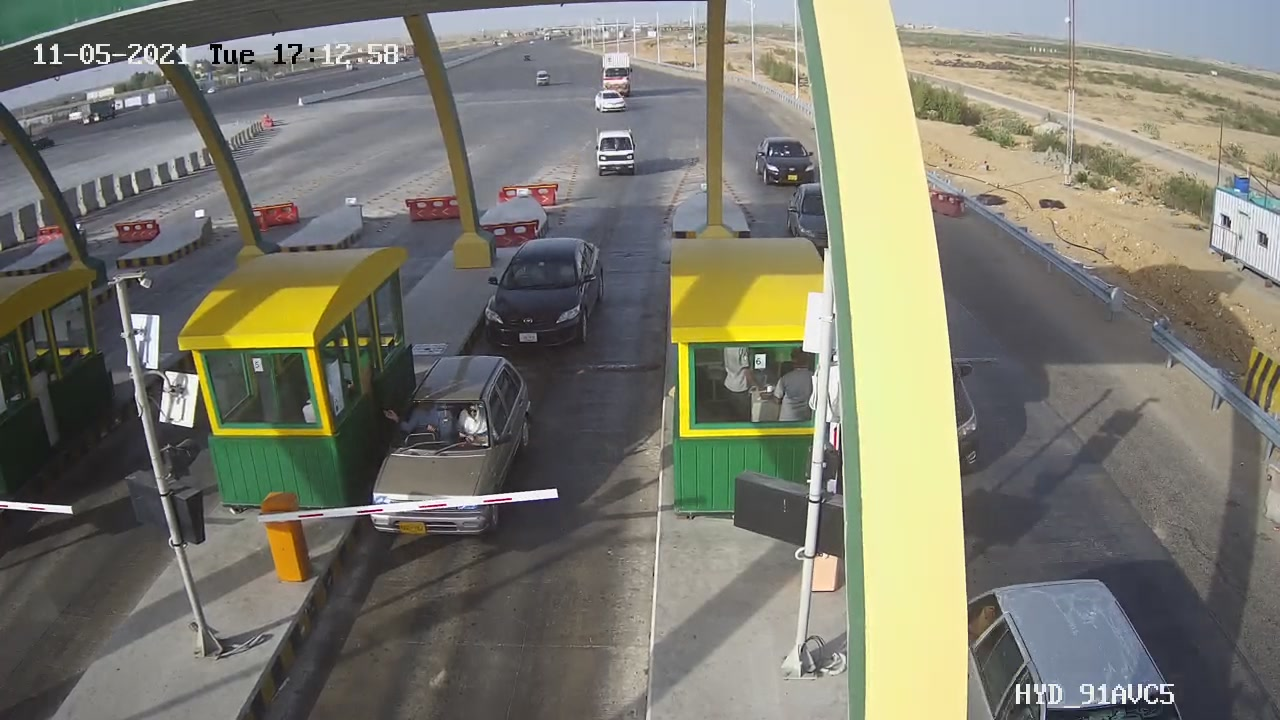F1: (356, 347, 543, 552), (472, 220, 618, 362)
